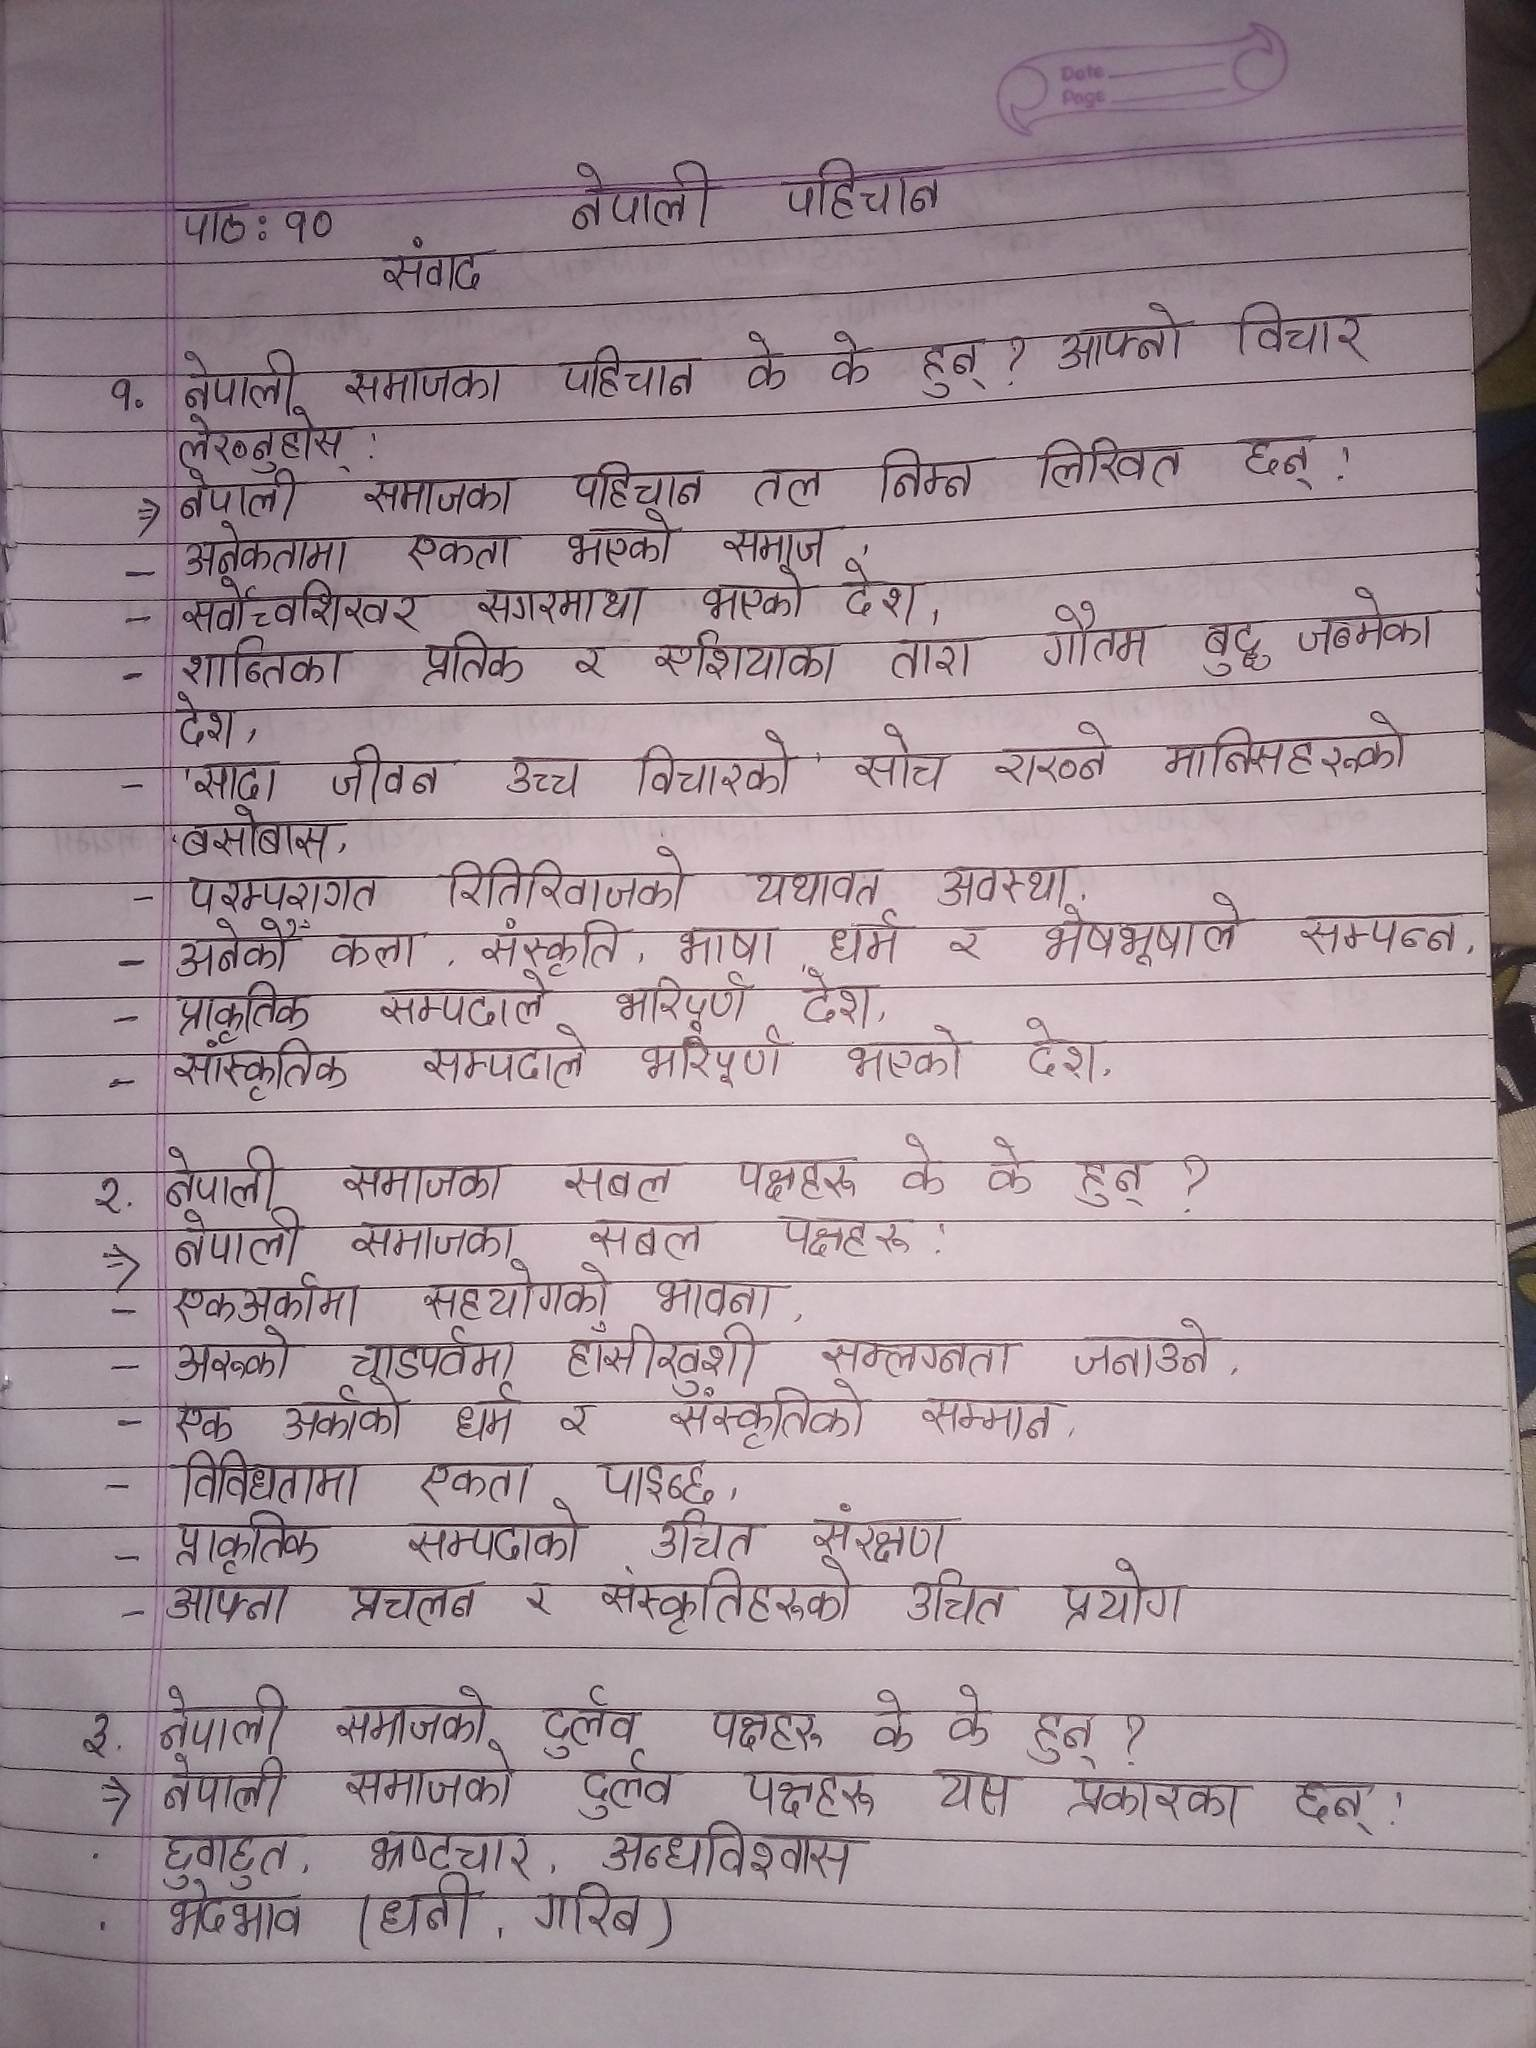cat: (599, 1566, 866, 1630), (445, 843, 684, 913), (1165, 722, 1412, 782), (557, 148, 721, 237), (603, 1822, 850, 1880), (182, 577, 419, 635), (563, 1319, 757, 1388), (423, 1259, 615, 1321), (1042, 906, 1249, 963), (783, 153, 950, 223), (173, 1271, 360, 1332), (632, 731, 799, 798), (665, 1388, 873, 1442), (655, 631, 842, 689), (1062, 1316, 1220, 1384), (349, 1753, 515, 1814), (1055, 298, 1191, 373), (176, 1039, 349, 1097), (147, 1680, 287, 1751), (169, 1509, 331, 1571), (1054, 1563, 1187, 1635), (176, 1450, 363, 1501), (331, 1687, 487, 1748), (165, 1887, 313, 1951), (403, 1509, 582, 1563), (1234, 295, 1371, 364), (424, 1032, 591, 1089), (1063, 1772, 1250, 1822), (807, 1498, 955, 1561), (1296, 592, 1439, 656), (987, 722, 1112, 795), (557, 343, 703, 405), (644, 1027, 791, 1089), (182, 803, 337, 861), (378, 974, 552, 1026), (176, 414, 349, 466), (182, 522, 349, 576), (818, 1334, 1020, 1377), (366, 1824, 536, 1875), (349, 1329, 521, 1379), (160, 1748, 284, 1817), (169, 343, 298, 410), (278, 1385, 408, 1450), (1041, 601, 1155, 672), (181, 635, 349, 684), (166, 1571, 287, 1637), (169, 914, 295, 977), (481, 914, 629, 968), (570, 1755, 686, 1822), (155, 1827, 295, 1882), (174, 980, 310, 1037), (1297, 911, 1465, 956), (742, 1759, 879, 1814), (1034, 439, 1184, 489), (160, 1142, 276, 1206), (536, 1884, 649, 1950), (379, 1874, 478, 1950), (184, 874, 382, 911), (173, 1208, 302, 1264), (373, 235, 490, 297), (340, 1577, 489, 1625), (336, 1159, 507, 1201), (331, 743, 449, 803), (474, 585, 649, 626), (349, 1214, 515, 1256), (173, 1332, 295, 1388), (852, 722, 949, 793), (615, 977, 752, 1027), (344, 364, 513, 405), (566, 460, 707, 508), (921, 1392, 1057, 1442), (566, 510, 679, 568), (842, 1027, 965, 1080), (536, 1690, 650, 1746), (873, 448, 984, 506), (361, 477, 520, 518), (416, 1455, 536, 1508), (774, 1211, 915, 1256), (177, 468, 295, 521), (1016, 1013, 1104, 1084), (652, 1272, 779, 1321), (710, 1705, 829, 1756), (594, 1455, 716, 1505), (736, 1159, 868, 1205), (582, 1213, 707, 1259), (558, 1153, 678, 1201), (707, 569, 815, 622), (652, 1505, 753, 1561), (1231, 431, 1326, 490), (904, 1571, 1007, 1625), (1284, 1774, 1379, 1832), (421, 632, 524, 685), (939, 863, 1070, 905), (745, 868, 886, 906), (841, 558, 920, 626), (797, 966, 879, 1027), (915, 332, 991, 398), (1070, 1155, 1152, 1213), (1196, 619, 1273, 681), (891, 631, 978, 684), (931, 1766, 1018, 1819), (828, 910, 907, 968), (407, 531, 515, 572), (174, 197, 257, 250), (723, 526, 831, 566), (676, 922, 779, 964), (1028, 1705, 1102, 1763), (449, 1379, 516, 1442), (173, 689, 239, 751), (502, 748, 584, 798), (331, 929, 421, 972), (937, 1680, 995, 1746), (862, 1680, 913, 1755), (894, 1130, 950, 1198), (195, 760, 281, 801), (824, 327, 874, 398), (741, 327, 794, 393), (753, 464, 826, 510), (282, 198, 342, 250), (983, 1134, 1029, 1198), (168, 1400, 237, 1438), (515, 1576, 561, 1622), (79, 1705, 115, 1764), (949, 916, 989, 963), (92, 1171, 127, 1222), (570, 642, 610, 684), (561, 1397, 599, 1442)
